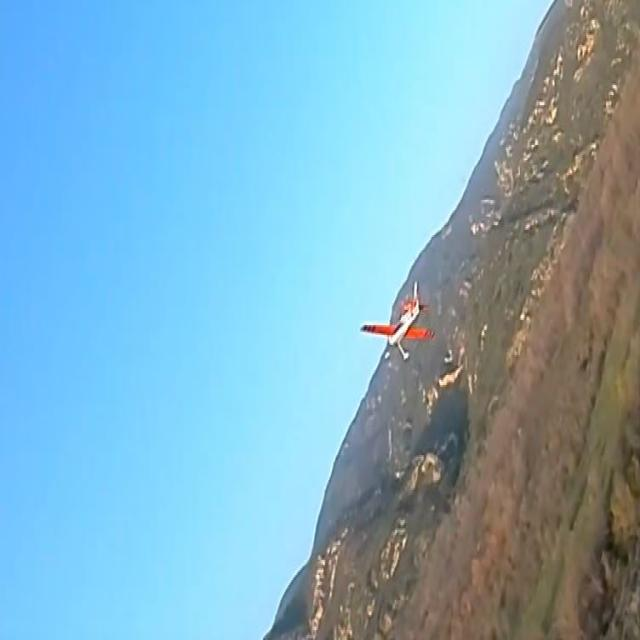iha: (390, 311, 403, 329)
